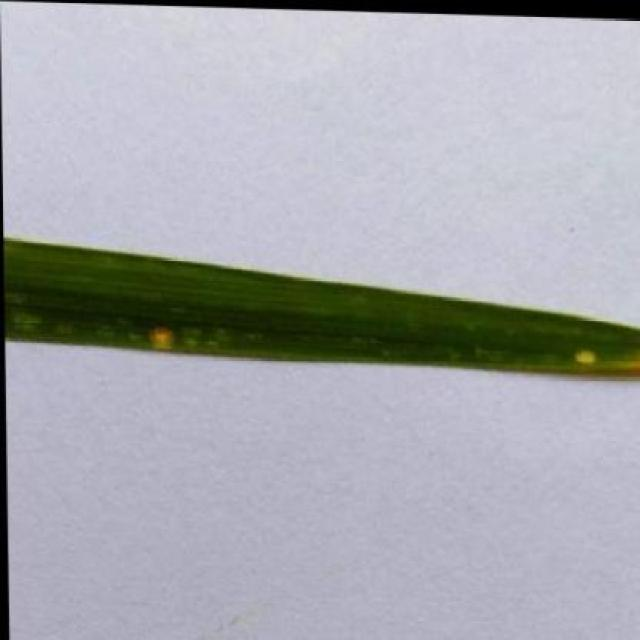Bacterial_Leaf_Blight: (145, 305, 192, 353), (569, 335, 608, 374), (624, 336, 640, 379)
